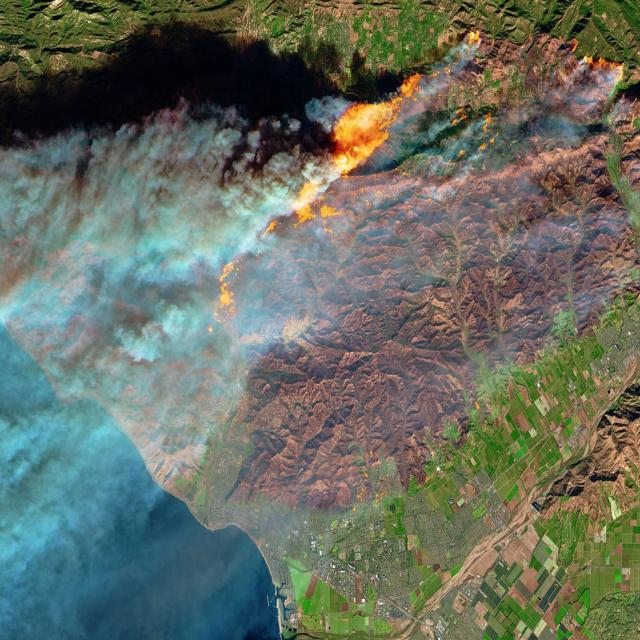Fire: (308, 96, 399, 154)
